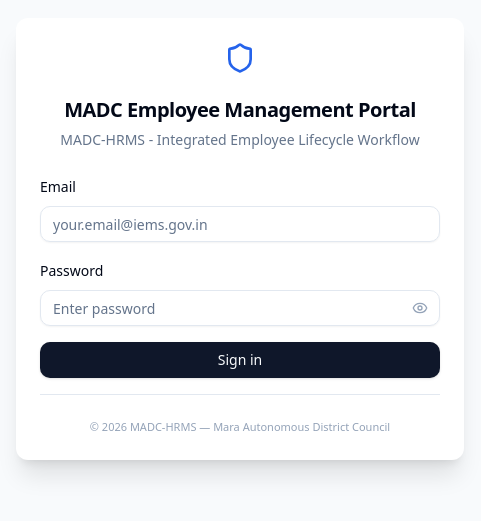
Scenario: LoginPage › shows a visible auth error when sign-in fails and clears it after editing
The image size is (481, 521).
Type "global.dataentry@madc.gov.in" into the field with test id "login-email-input".
click(240, 224); type("global.dataentry@madc.gov.in")  # box [40,206,440,242]
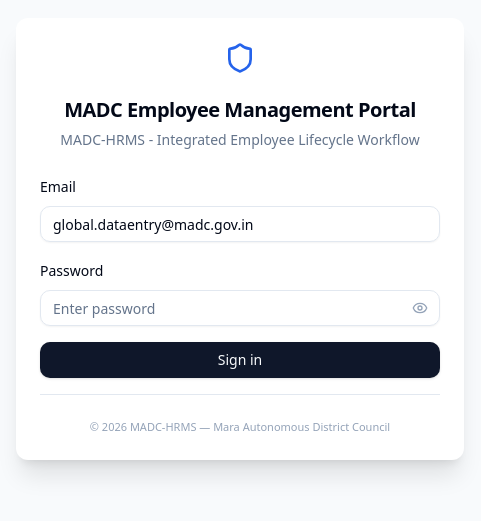
Type "wrongpass" into the password field with test id "login-password-input".
click(240, 308); type("wrongpass")  # box [40,290,440,326]
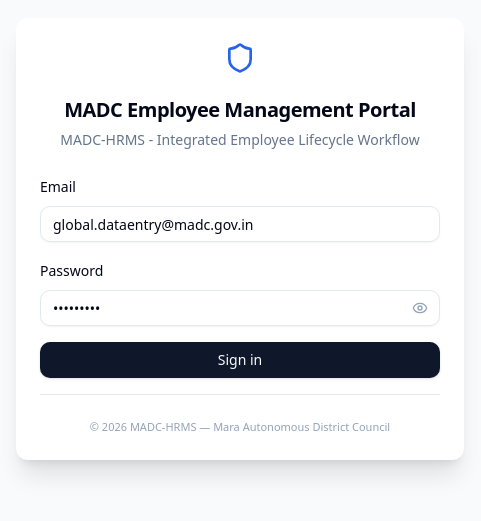
Click the button with test id "login-submit-btn".
click(240, 360)  # box [40,342,440,378]
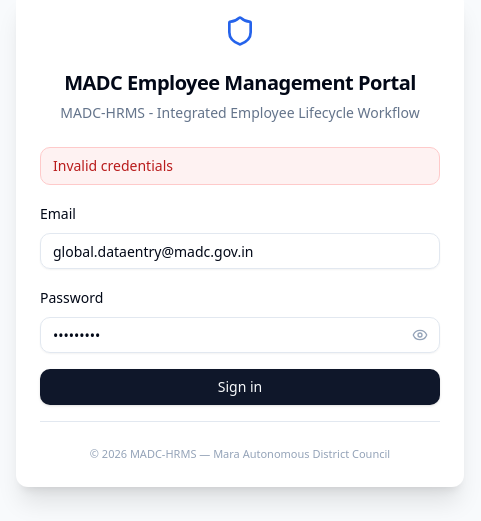
Expected: the message with test id "login-auth-error" reads "Invalid credentials", [53,156,173,175]
Type "wrongpass1" into the password field with test id "login-password-input".
click(240, 335); type("wrongpass1")  # box [40,317,440,353]
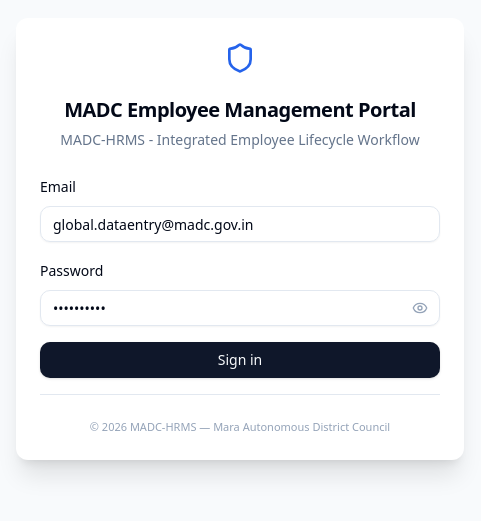
Expected: the message with test id "login-auth-error" is gone
